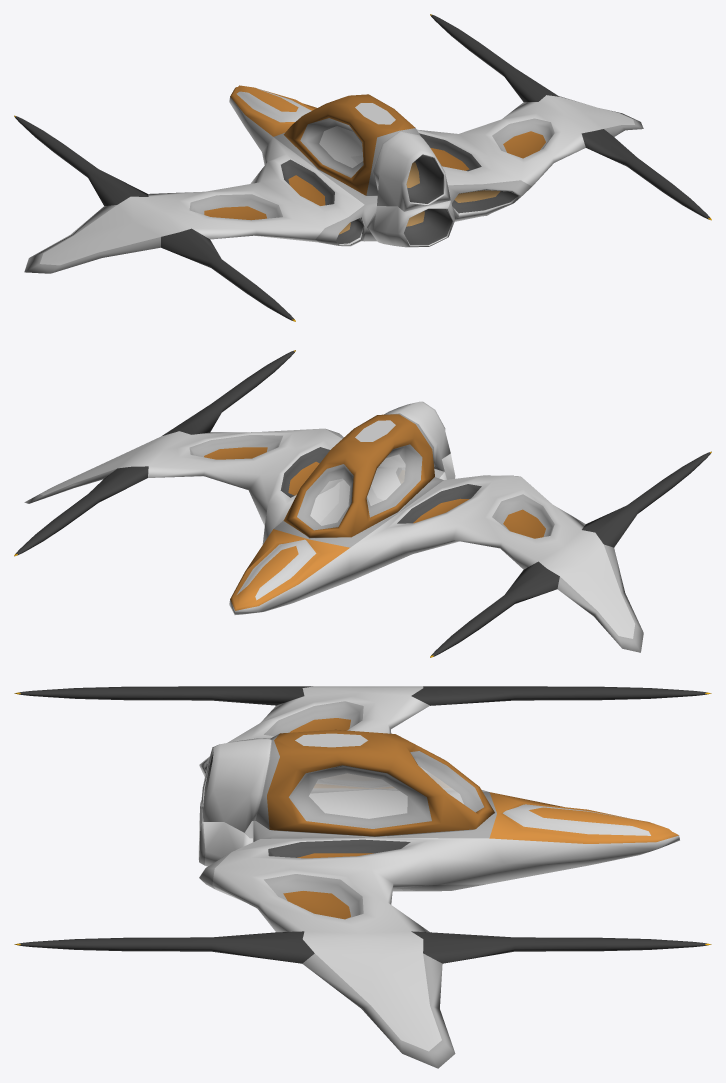
Rendered from orangeship_smooth.fbx.
3 views of the same model, one above another, from view 1: azimuth 30°, elevation 25°; view 2: azimuth 150°, elevation 25°; view 3: azimuth 270°, elevation 25° (orthographic). The views are drawn at different scales.
Parts seen in each view (by area): view 1: orangeship_smooth; view 2: orangeship_smooth; view 3: orangeship_smooth.
Part boxes in pixels (<box>): orangeship_smooth: <box>14,14,711,321</box>; orangeship_smooth: <box>14,350,711,657</box>; orangeship_smooth: <box>14,686,711,1068</box>.
Bounding box in the file's own units: 40.19 × 7.2 × 31.84.
